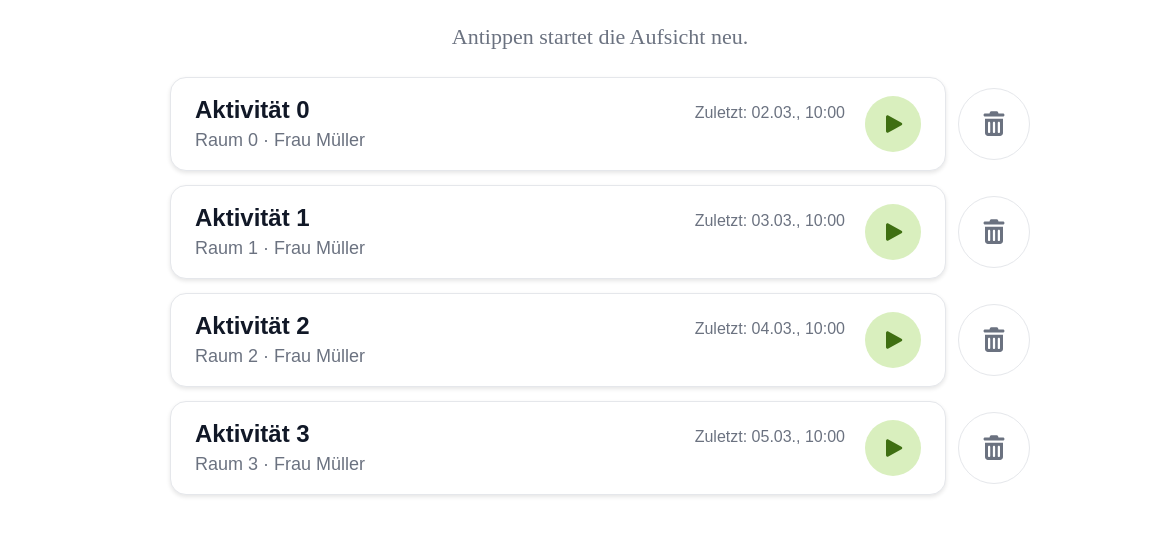
Scenario: SessionHistoryPage › resets inline confirmation when changing pages
Click the 1st button named "Eintrag löschen".
click(994, 124)  # box x1=958 y1=88 x2=1030 y2=160
(page scrolled)
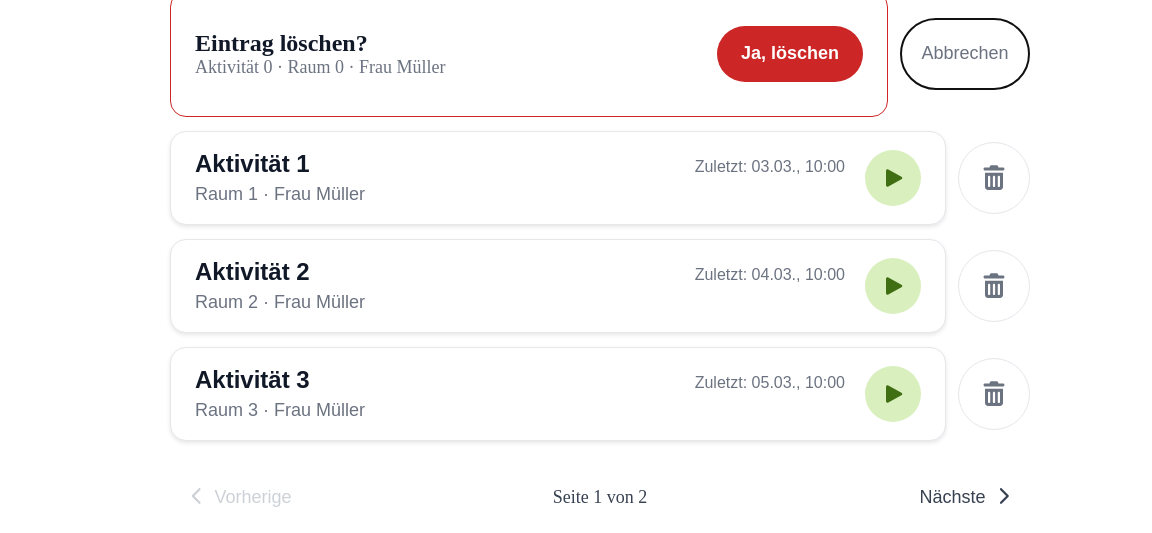
Click the button "Nächste".
click(967, 497)  # box x1=904 y1=479 x2=1030 y2=516
(page scrolled)
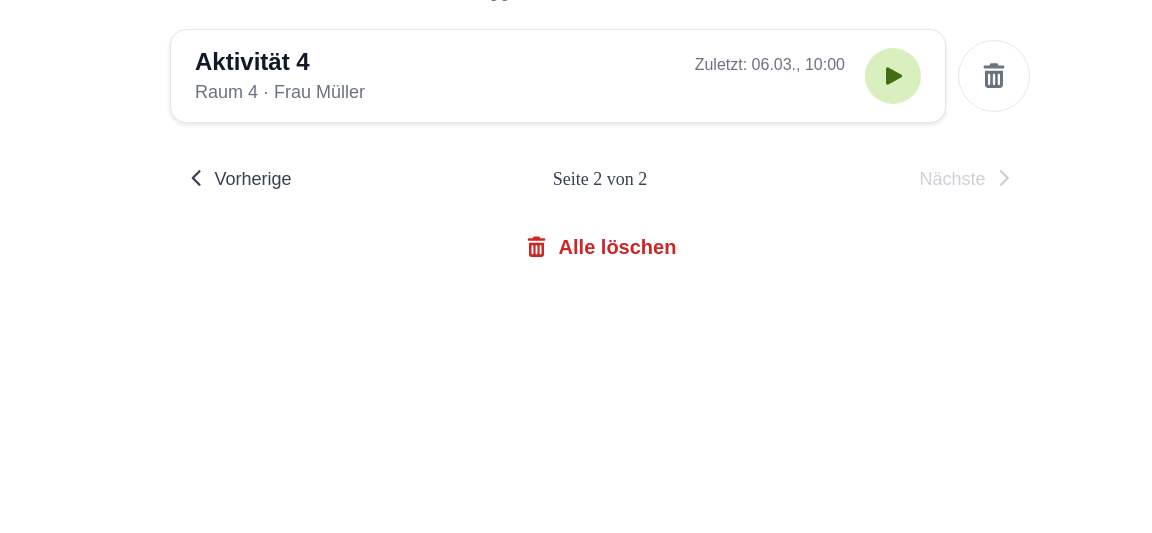
Click the button "Vorherige".
click(239, 179)  # box x1=170 y1=161 x2=308 y2=198
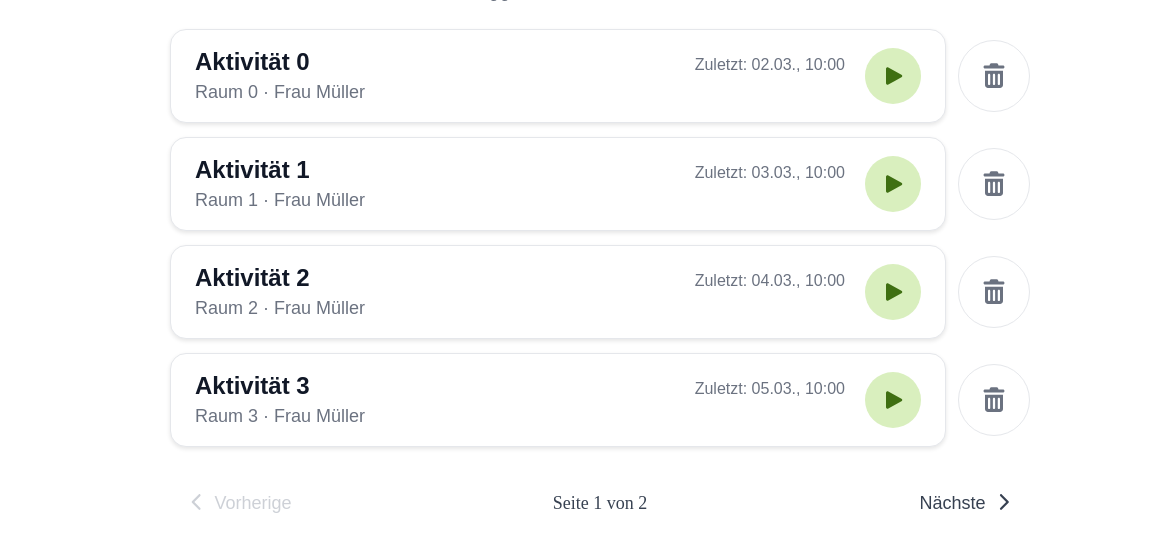
expect the text "Eintrag löschen?" is not shown: met
expect the number of buttons named "Eintrag löschen" is 4: met, box x1=958 y1=40 x2=1030 y2=112; x1=958 y1=148 x2=1030 y2=220; x1=958 y1=256 x2=1030 y2=328; x1=958 y1=364 x2=1030 y2=436
